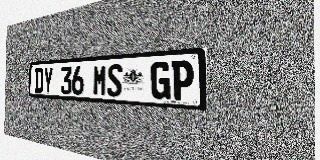3: (61, 66, 72, 95)
6: (72, 66, 84, 95)
D: (35, 68, 44, 93)
G: (150, 61, 171, 100)
M: (93, 64, 107, 96)
P: (171, 60, 194, 101)
S: (107, 64, 122, 97)
Y: (43, 67, 53, 94)
